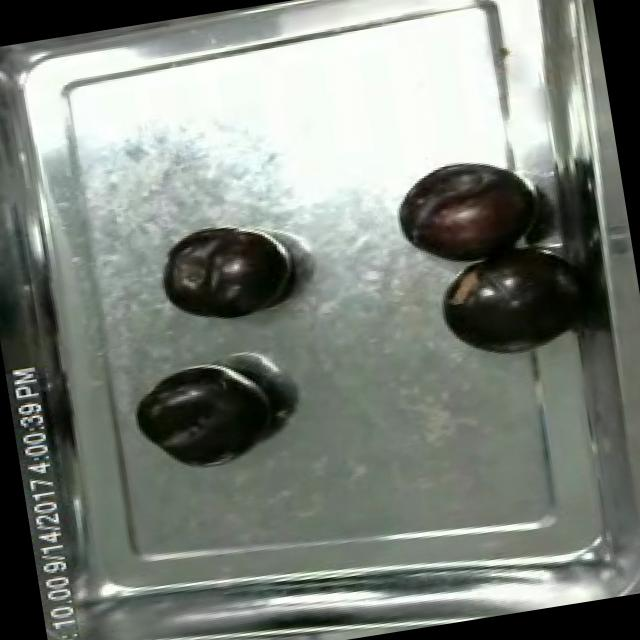Fruit: (384, 148, 546, 278), (426, 246, 586, 376), (123, 356, 289, 480), (152, 218, 304, 332)
